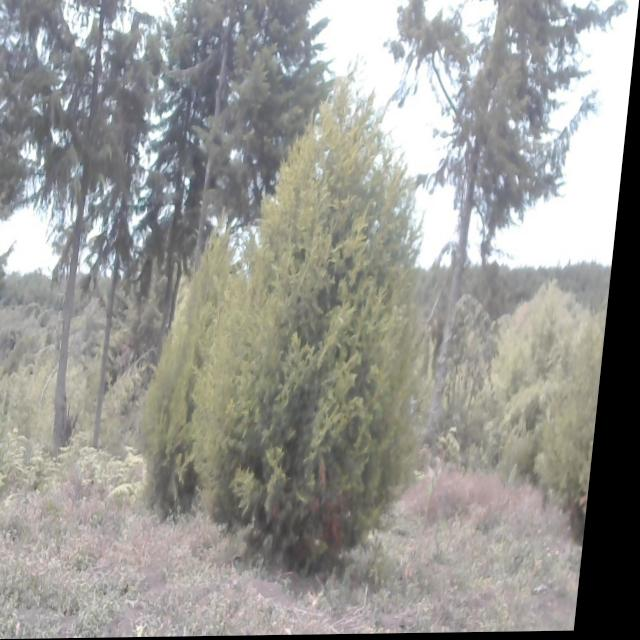cedrus: (195, 107, 463, 571), (376, 0, 640, 246), (14, 0, 120, 433), (86, 0, 169, 433), (140, 226, 257, 521), (194, 0, 329, 209), (132, 0, 211, 334), (0, 8, 46, 439)
